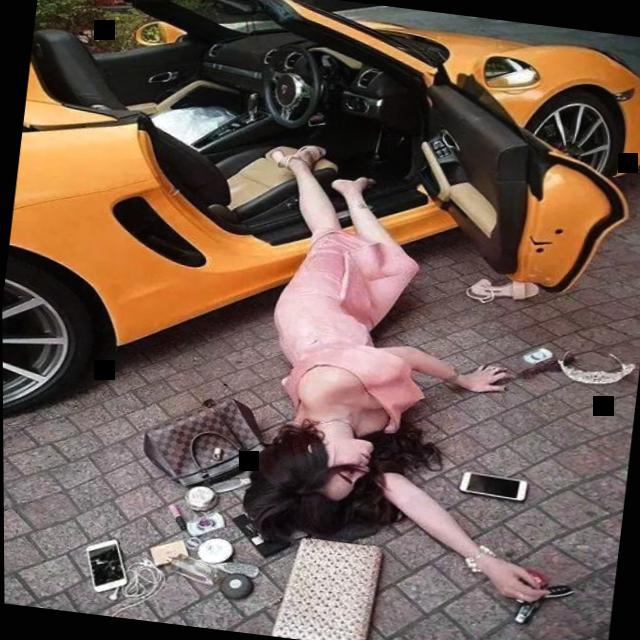Fall-Detected: (167, 103, 640, 624)
